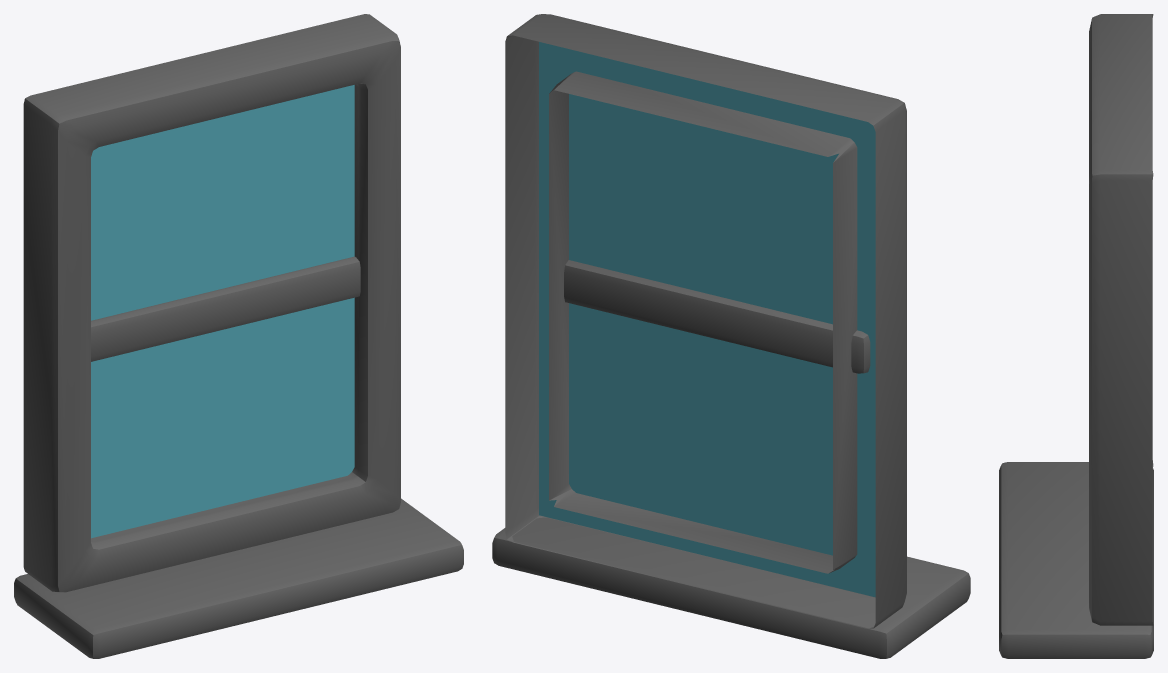
The model's file is SM_window_02.fbx.
The picture shows the model from 3 angles, left to right: view 1: azimuth 30°, elevation 25°; view 2: azimuth 150°, elevation 25°; view 3: azimuth 270°, elevation 25°; orthographic projection. The views are drawn at different scales.
Parts seen in each view (by area): view 1: Object034; view 2: Object034; view 3: Object034.
Boxes of the visible parts, left/top/right/bottom form: Object034: left=14, top=14, right=463, bottom=658; Object034: left=492, top=14, right=970, bottom=658; Object034: left=999, top=14, right=1153, bottom=658.
Bounding box in the file's own units: 38.54 × 49.55 × 14.43.
